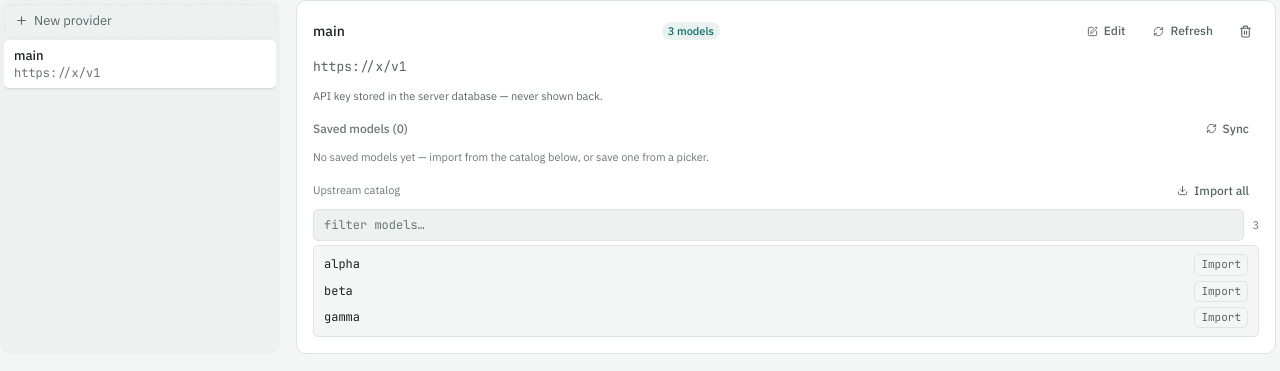
Test case: integration panels › providers: the upstream catalog block filters by id (import discovery)
Expected: the text "3 models" is shown, [662, 22, 720, 40]
Type "gam" into the field named "Filter models of main" at x=779, y=225, box [313, 209, 1244, 241]
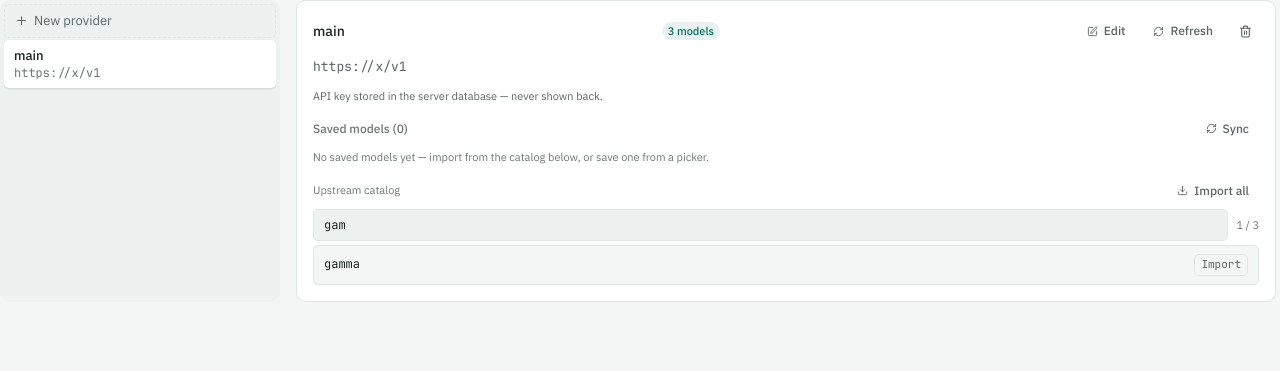
Expected: the list named "Models of main" shows "gamma", [324, 256, 360, 272]
Expected: the text "Models of main" no longer shows "alpha"
Expected: the text "1 / 3" is shown, [1236, 218, 1259, 233]
